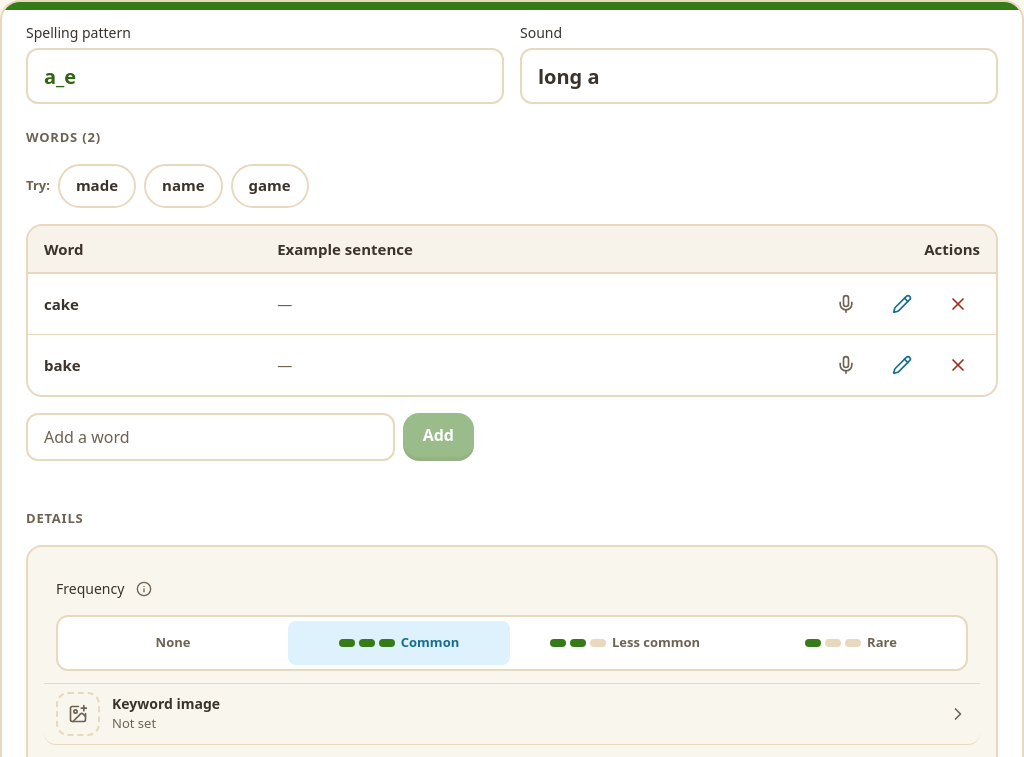
PatternEditor › explains frequency in a help modal behind the info button
Click the button named "About frequency" at (144, 588), box [130, 574, 158, 602]
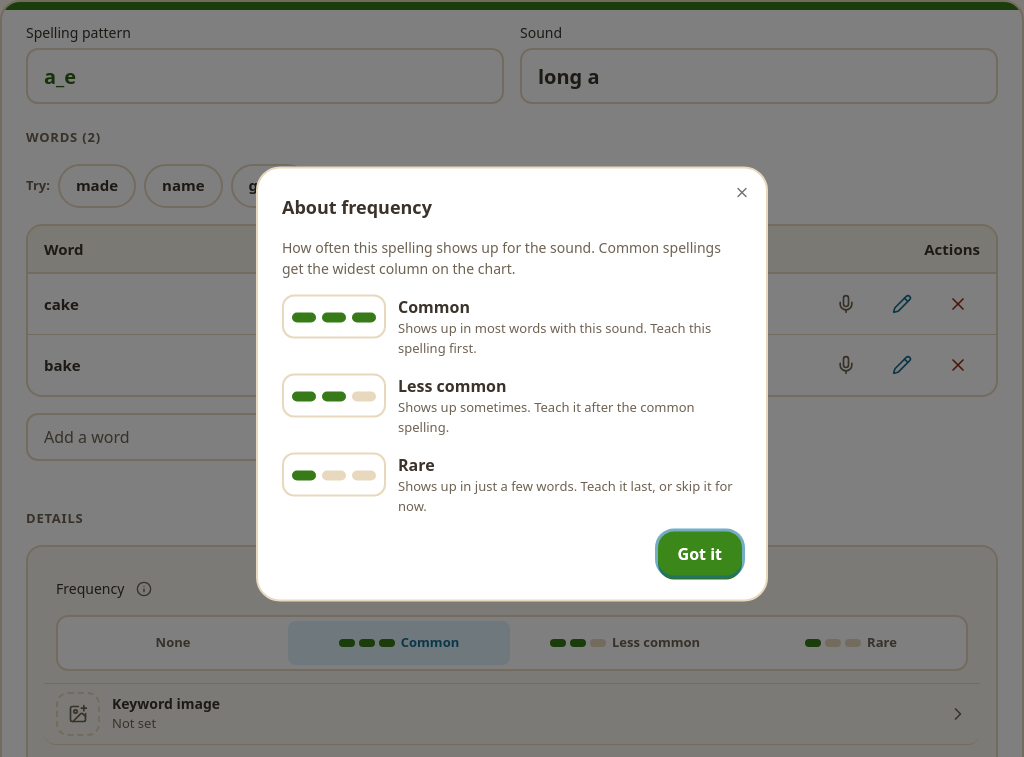
expect the heading "About frequency" is shown: met, box [282, 194, 432, 218]
expect the text "How often this spelling shows up for the sound. Common spellings get the widest column on the chart." is shown: met, box [282, 238, 721, 278]
expect the text "Shows up in most words with this sound. Teach this spelling first." is shown: met, box [398, 318, 742, 358]
